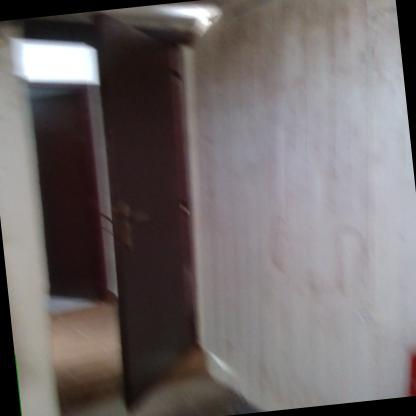semi: (4, 2, 235, 415)
